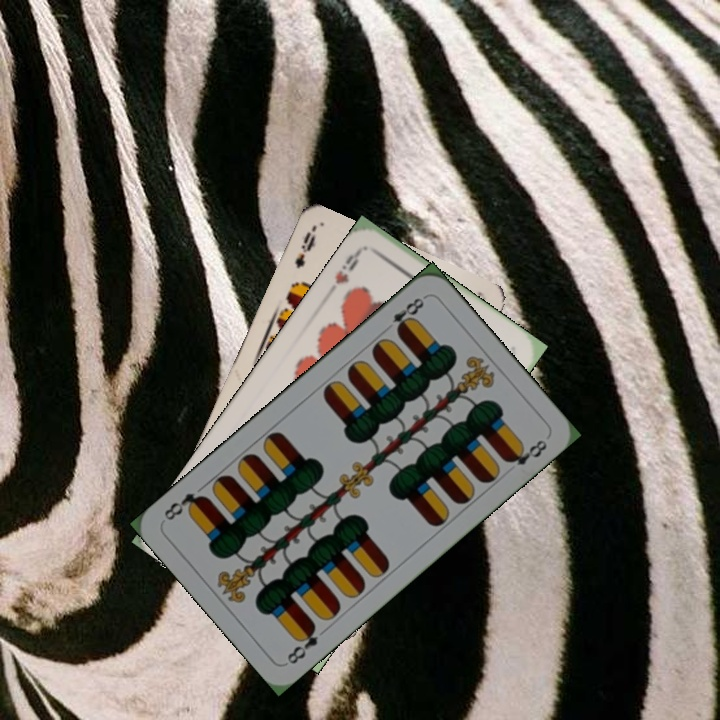E8: (282, 619, 321, 667), (387, 292, 428, 337)
E9: (290, 225, 319, 271)
H9: (331, 244, 365, 287)
